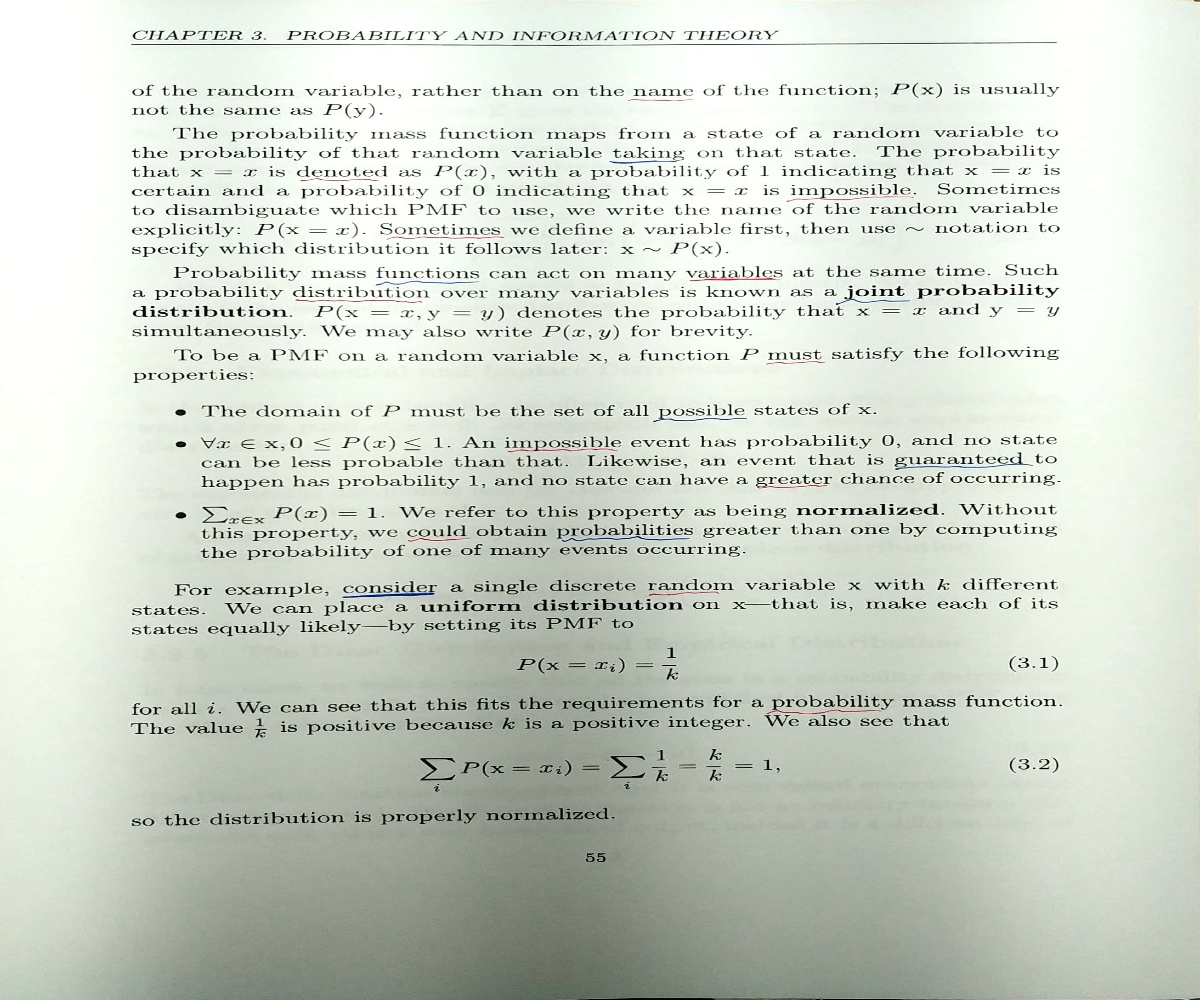underline: (287, 294, 431, 307), (763, 704, 886, 719), (555, 534, 694, 547), (498, 443, 625, 456), (888, 461, 1037, 472), (784, 191, 920, 202), (374, 276, 484, 289), (378, 232, 512, 242), (831, 294, 917, 309), (641, 588, 729, 602), (647, 415, 753, 426), (622, 93, 700, 107), (294, 172, 384, 184), (604, 153, 687, 166), (684, 274, 784, 284), (403, 533, 477, 546), (337, 593, 442, 602), (752, 481, 835, 492), (760, 357, 829, 368)
